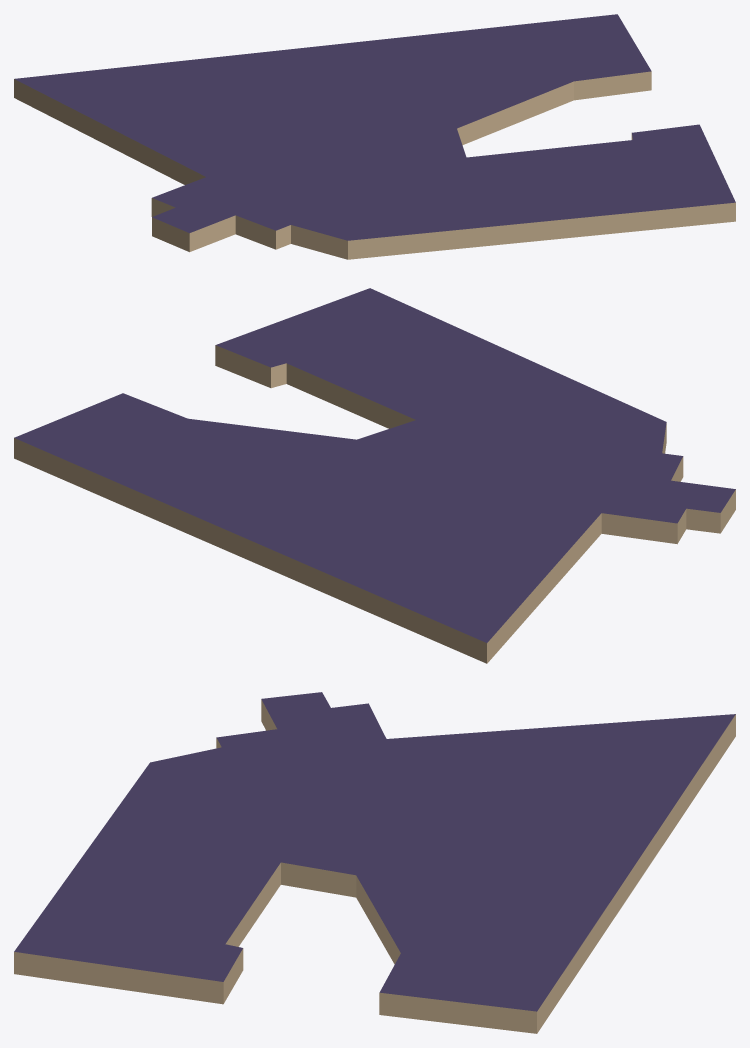
File: b-084-fims-nursing-building.glb
The picture shows the model from 3 angles, top to bottom: view 1: azimuth 30°, elevation 25°; view 2: azimuth 150°, elevation 25°; view 3: azimuth 270°, elevation 25°; orthographic projection. The views are drawn at different scales.
Parts seen in each view (by area): view 1: campus/b-084-fims-nursing-building-0; view 2: campus/b-084-fims-nursing-building-0; view 3: campus/b-084-fims-nursing-building-0.
Boxes of the visible parts, <box> form: campus/b-084-fims-nursing-building-0: <box>14,14,735,259</box>; campus/b-084-fims-nursing-building-0: <box>14,288,735,663</box>; campus/b-084-fims-nursing-building-0: <box>14,692,735,1033</box>.
Bounding box in the file's own units: 92.14 × 3 × 87.99.
